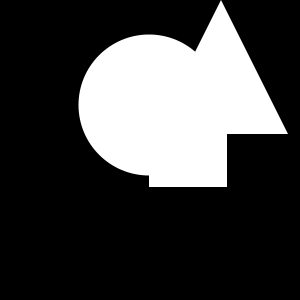circle: (149, 109, 227, 187), (117, 62, 191, 136), (170, 147, 179, 156)
rectangle: (78, 34, 220, 176)
triangle: (154, 0, 288, 134)
